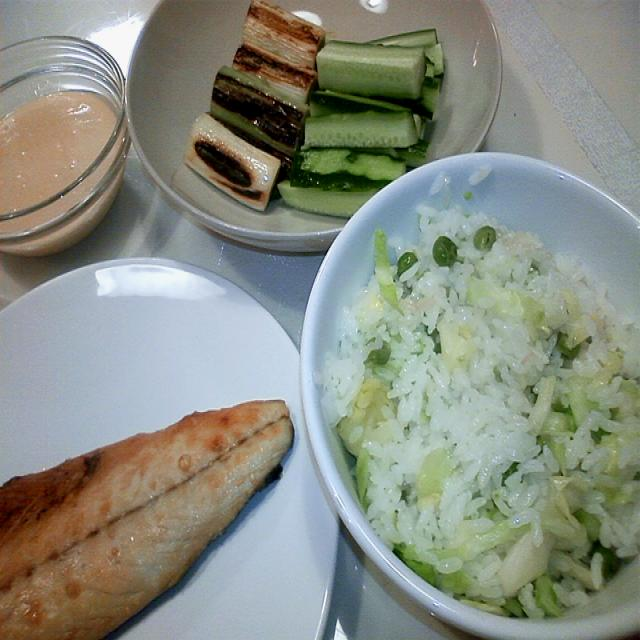rice: (375, 219, 634, 565)
